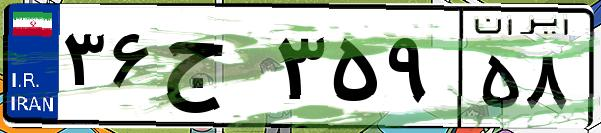3: (270, 28, 330, 110), (57, 26, 110, 100)
5: (330, 28, 385, 110), (475, 38, 525, 113)
6: (110, 28, 158, 98)
8: (525, 38, 570, 115)
9: (385, 28, 445, 110)
ج: (158, 20, 270, 120)
